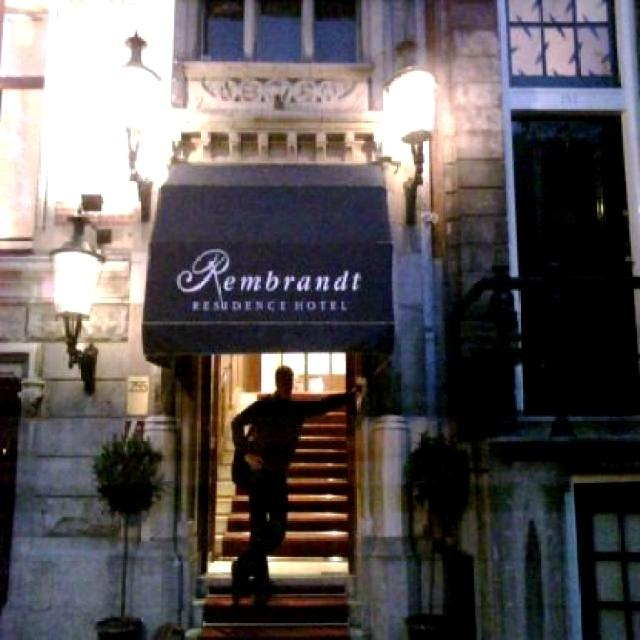stair: (185, 391, 368, 640)
